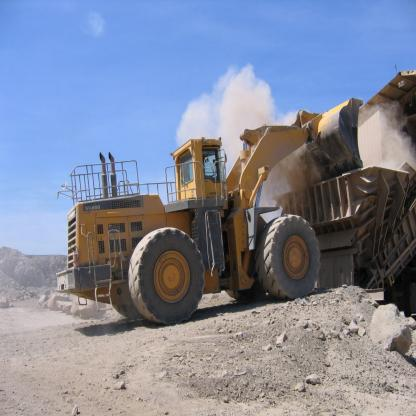bull_dozer/loader/grader: (49, 82, 370, 334)
